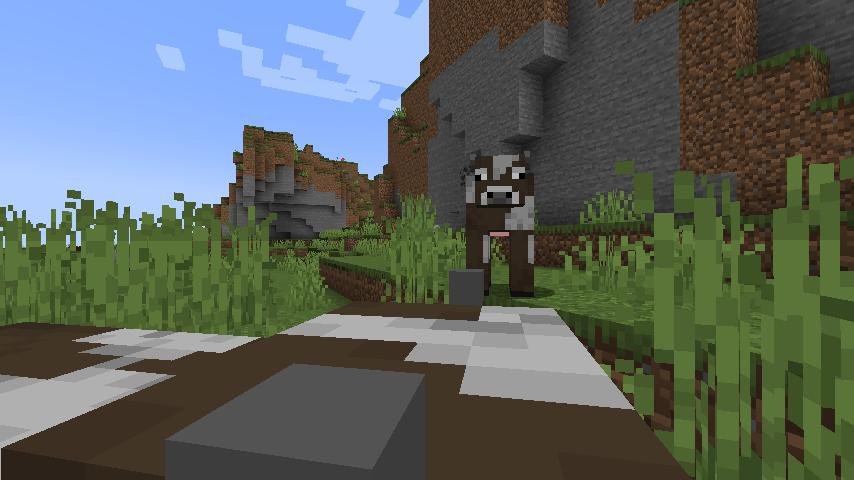cow: (0, 300, 694, 480), (461, 148, 538, 299)
